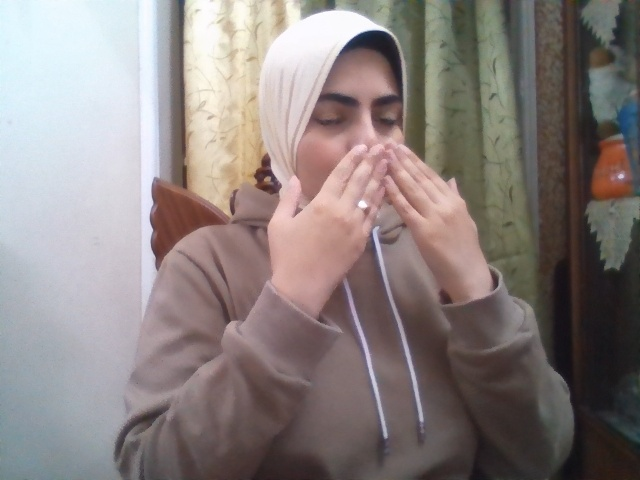thanks: (266, 140, 487, 300)
